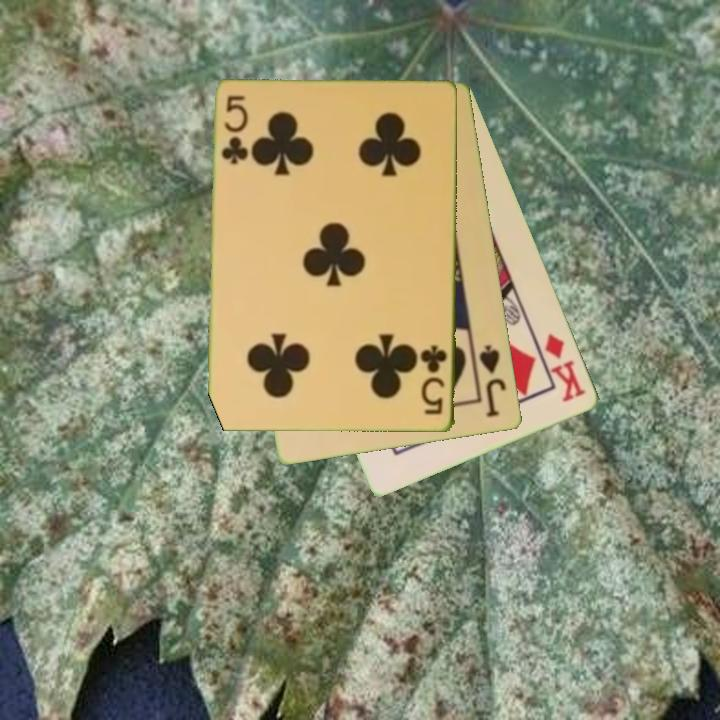5c: (417, 342, 450, 419), (218, 92, 248, 167)
Js: (476, 341, 510, 421)
Kd: (542, 330, 589, 406)
